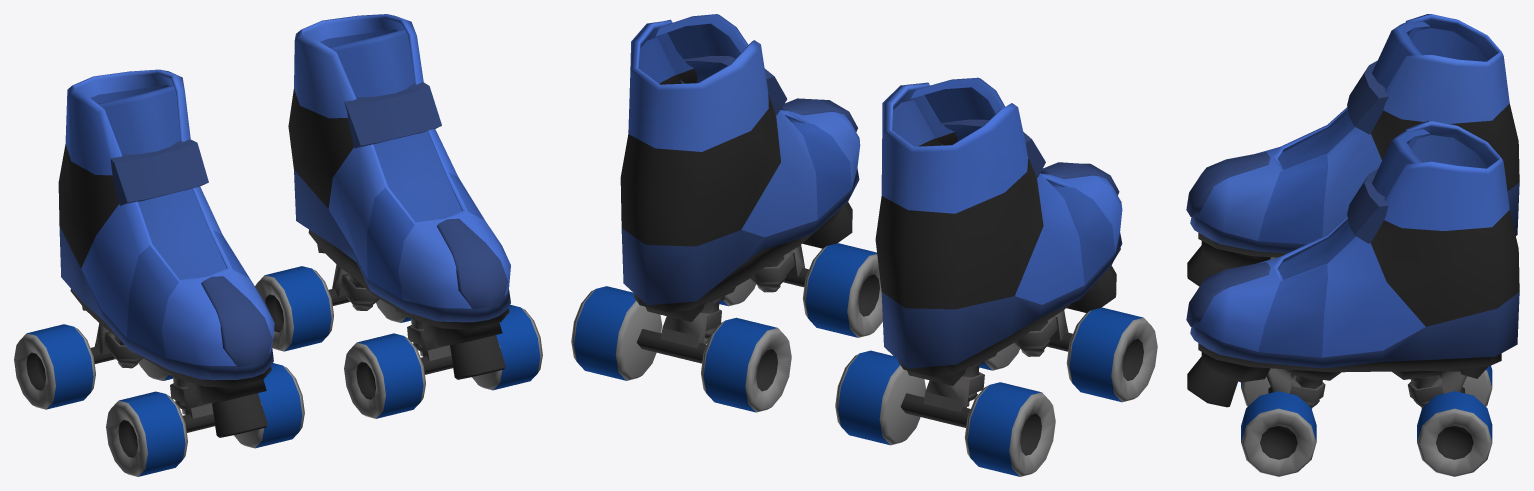
File: PP_RollerSkate.fbx
3 views of the same model, side by side, from view 1: azimuth 30°, elevation 25°; view 2: azimuth 150°, elevation 25°; view 3: azimuth 270°, elevation 25° (orthographic). The views are drawn at different scales.
Visible parts, largest first — view 1: Skate, frontwheel_L, frontwheel_R, backwheel_R, backwheel_L; view 2: Skate, backwheel_L, backwheel_R, frontwheel_R, frontwheel_L; view 3: Skate, backwheel_L, frontwheel_L.
Part boxes in pixels (<box>): Skate: <box>58,14,510,437</box>; frontwheel_L: <box>344,305,542,418</box>; frontwheel_R: <box>106,363,304,476</box>; backwheel_R: <box>14,324,173,409</box>; backwheel_L: <box>255,266,411,351</box>; Skate: <box>620,14,1122,427</box>; backwheel_L: <box>571,286,791,412</box>; backwheel_R: <box>835,350,1055,476</box>; frontwheel_R: <box>979,307,1157,402</box>; frontwheel_L: <box>719,243,882,337</box>; Skate: <box>1186,14,1519,408</box>; backwheel_L: <box>1417,366,1492,476</box>; frontwheel_L: <box>1241,377,1316,476</box>.
Size of the model in its own units: 35.56 by 26.73 by 26.74.
